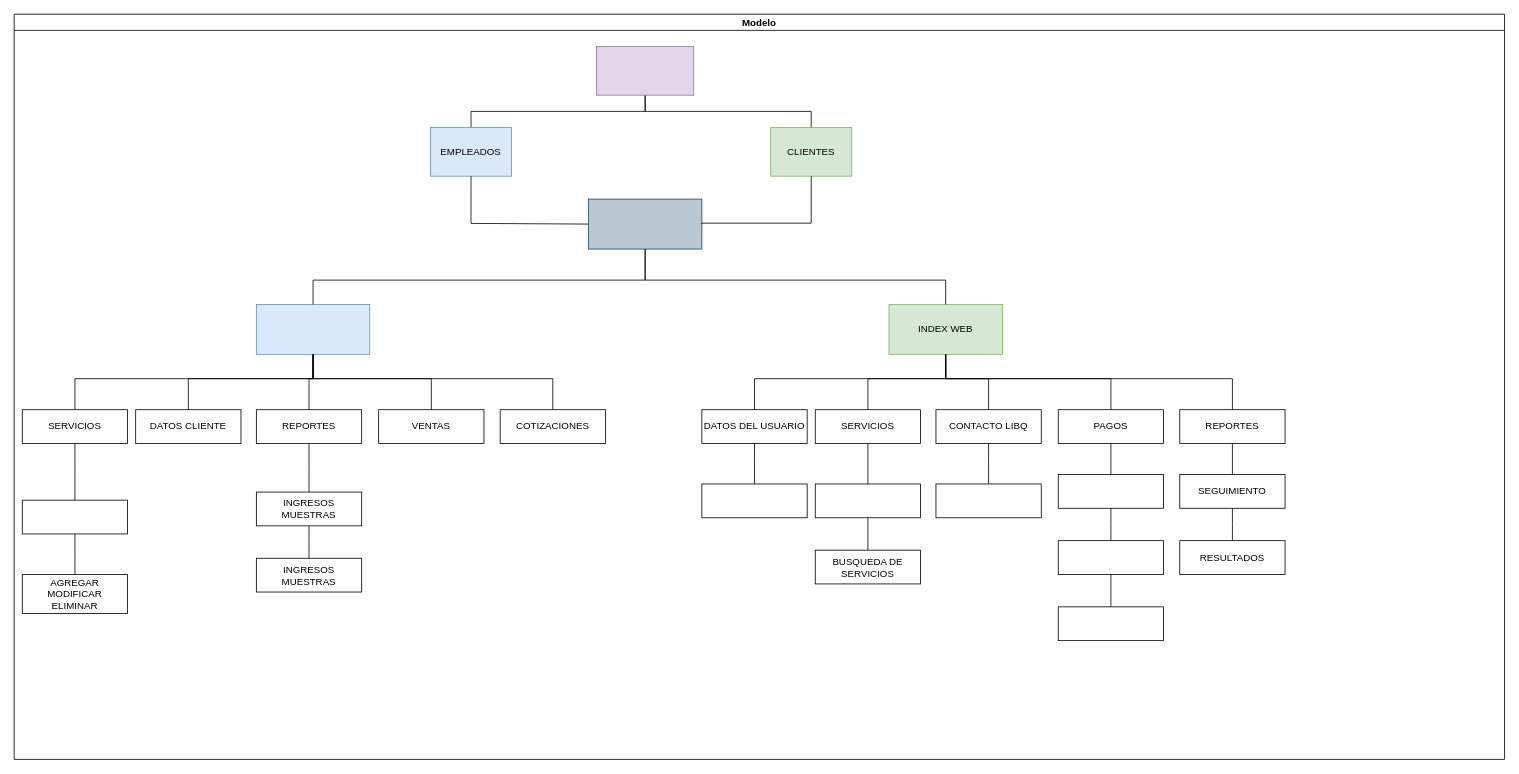
The diagram is 1519 pixels wide and 774 high, and some of its shapes have lost their labels. Each missing label, with the box of its shape:
DASHABOARD: (256, 304, 370, 354)
DIRECCIONAMIENTO: (588, 198, 702, 249)
FORMULARIO: (1057, 474, 1164, 508)
FORMULARIO CONTACTO: (935, 483, 1041, 518)
INICIO DE SESIÓN: (596, 46, 694, 95)
LISTA DE SERVICIOS: (814, 483, 921, 518)
LISTA SERVICIOS: (21, 499, 128, 534)
METODOS DE PAGO: (1057, 540, 1164, 574)
REGISTRO ACTUALIZACIÓN: (701, 483, 807, 518)
REGISTRO DATOS CLIENTE: (1057, 606, 1164, 641)
